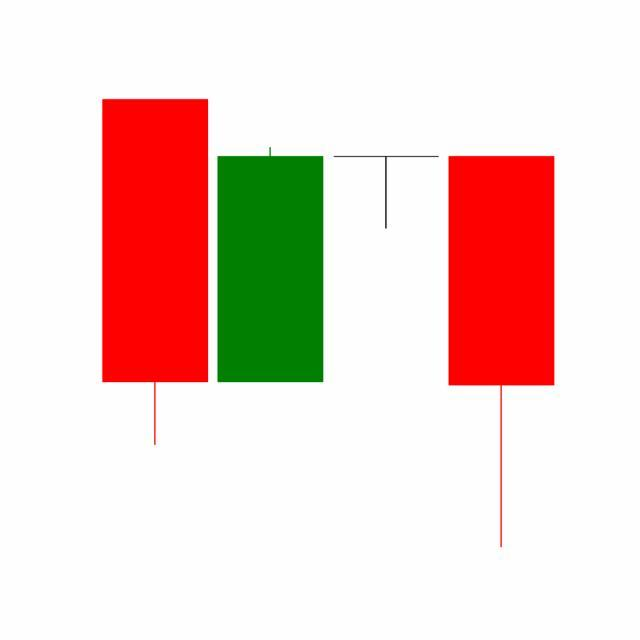Dragonfly Doji: (329, 155, 445, 230)
